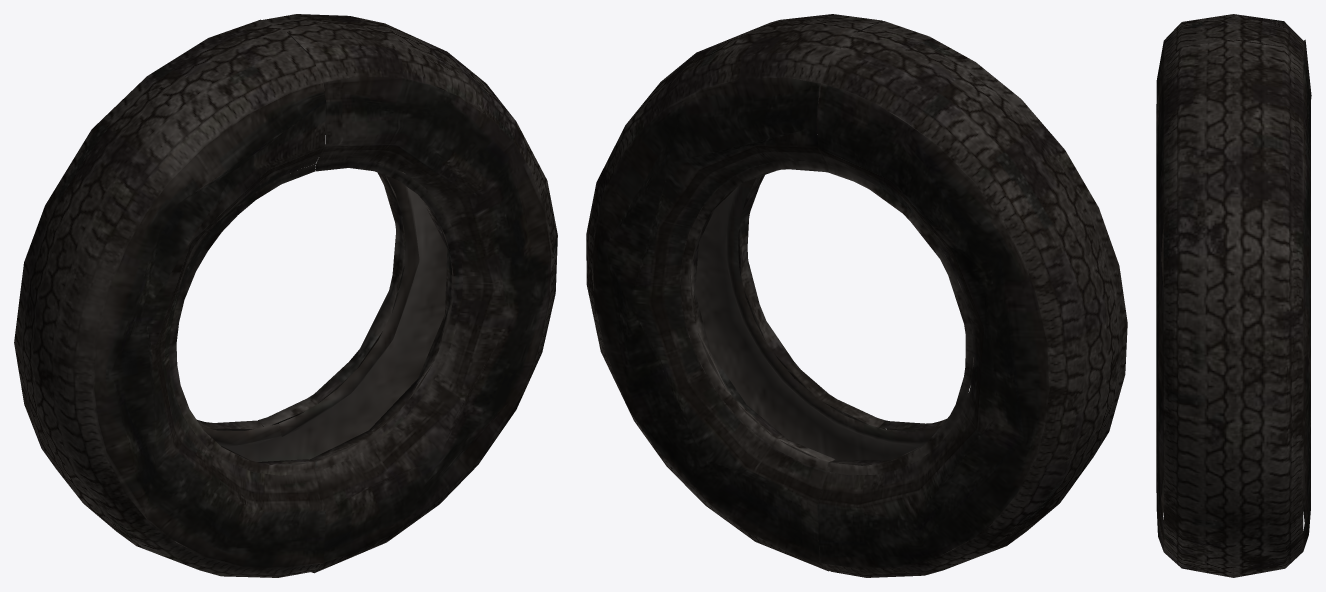
Rendered from old_tyre.glb.
The picture shows the model from 3 angles, left to right: view 1: azimuth 30°, elevation 25°; view 2: azimuth 150°, elevation 25°; view 3: azimuth 270°, elevation 25°; orthographic projection. The views are drawn at different scales.
Parts seen in each view (by area): view 1: old_tyre; view 2: old_tyre; view 3: old_tyre.
Part boxes in pixels (left/top/right/bottom): old_tyre: left=14, top=14, right=557, bottom=577; old_tyre: left=586, top=14, right=1127, bottom=577; old_tyre: left=1156, top=14, right=1311, bottom=577.
Bounding box in the file's own units: 0.6047 × 0.6055 × 0.1656.
1 material, 1 textured.
